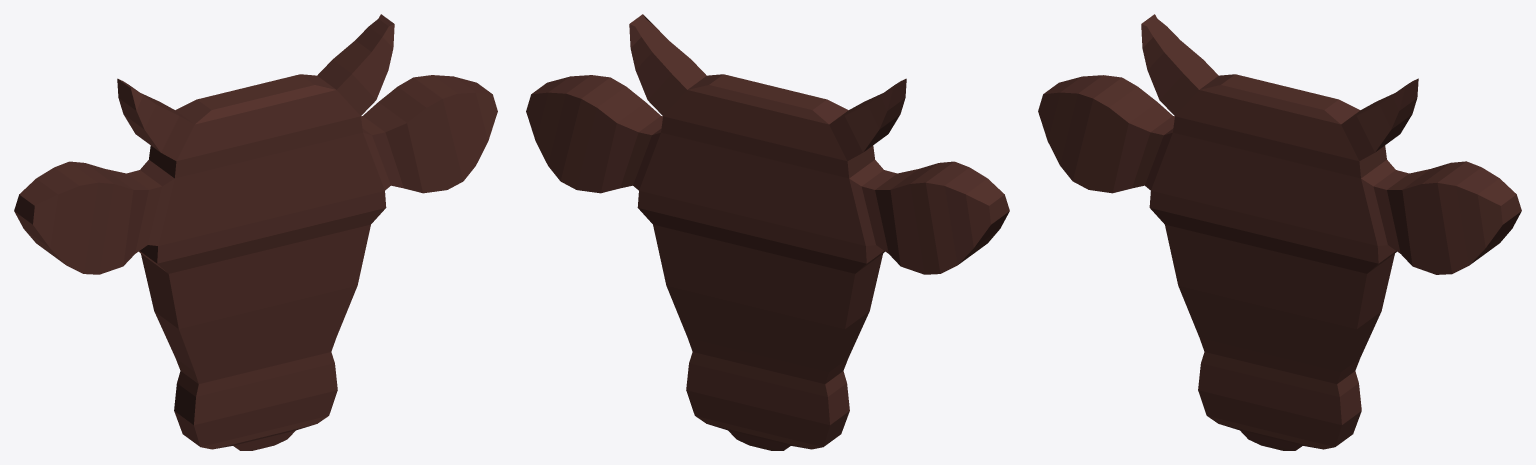
File: icon_cow_head.fbx
3 views of the same model, side by side, from view 1: azimuth 30°, elevation 25°; view 2: azimuth 150°, elevation 25°; view 3: azimuth 330°, elevation 25° (orthographic).
Parts seen in each view (by area): view 1: Cube; view 2: Cube; view 3: Cube.
Boxes of the visible parts, <box> form: Cube: <box>14,14,497,450</box>; Cube: <box>526,14,1009,450</box>; Cube: <box>1038,14,1521,450</box>.
Bounding box in the file's own units: 57.52 × 46.28 × 7.55.
